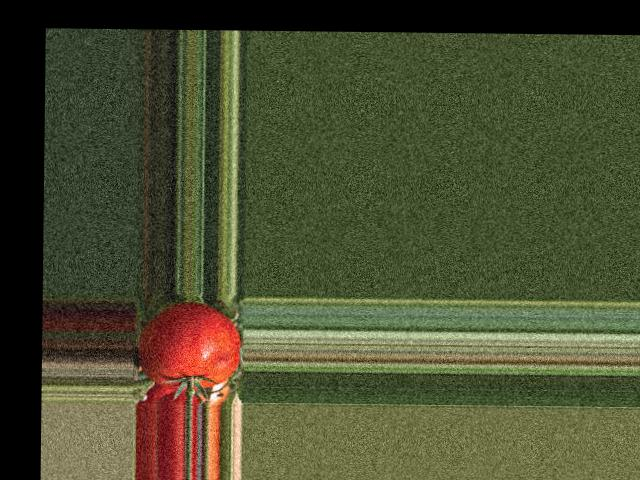tomato: (138, 302, 241, 390)
